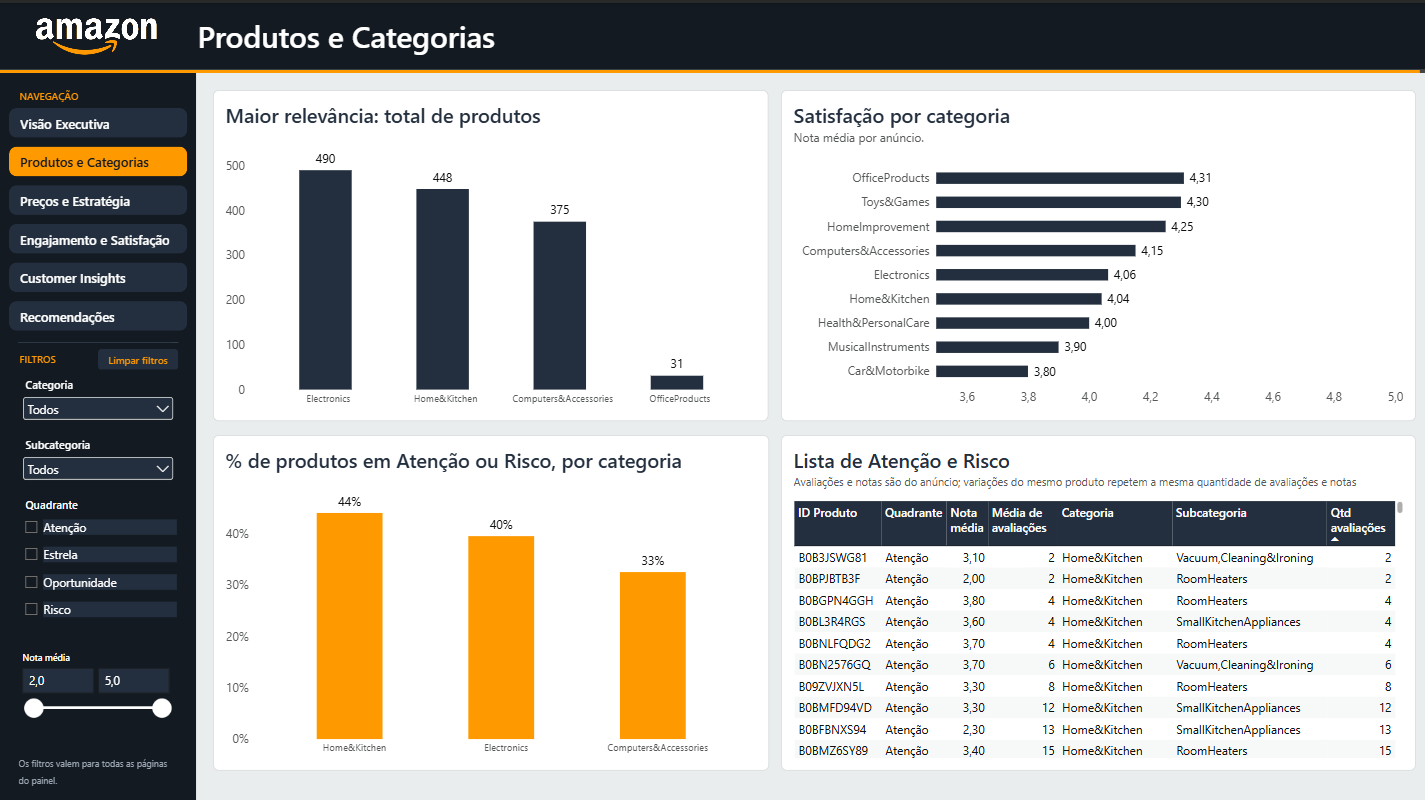

The dashboard page shown, as its layout file describes it:
{"tool":"powerbi","page":{"name":"Produtos e Categorias","canvas":[1920,1080],"ordinal":1},"visuals":[{"type":"textbox","box":[0,0,1920,90],"z":0},{"type":"textbox","box":[0,94,264,986],"z":1000},{"type":"textbox","box":[0,90,1920,4],"z":2000},{"type":"pageNavigator","box":[12,142,240,300],"z":3000},{"type":"textbox","box":[24,112,216,24],"z":4000},{"type":"textbox","box":[24,456,216,1],"z":5000},{"type":"textbox","box":[24,466,216,24],"z":6000},{"type":"clusteredColumnChart","title":"Maior relevância: total de produtos","fields":{"Category":["dProdutos.categoria_principal Hierarquia.categoria_principal","dProdutos.categoria_principal Hierarquia.categoria_nivel2"],"Y":["Medidas.qtd_produtos"]},"box":[287.4,116.7,748.4,446.4],"z":7000},{"type":"clusteredBarChart","title":"Satisfação por categoria","fields":{"Category":["dProdutos.categoria_principal Hierarquia.categoria_principal","dProdutos.categoria_principal Hierarquia.categoria_nivel2"],"Y":["Medidas.Nota média"]},"box":[1051.9,116.7,855,446.4],"z":8000},{"type":"clusteredColumnChart","title":"% de produtos em Atenção ou Risco, por categoria","fields":{"Category":["dProdutos.categoria_principal Hierarquia.categoria_principal","dProdutos.categoria_principal Hierarquia.categoria_nivel2"],"Y":["Medidas.perc_do_portifolio"]},"box":[286.8,581.7,748.7,452.5],"z":9000},{"type":"tableEx","title":"Lista de Atenção e Risco","fields":{"Values":["dProdutos.product_id","dProdutos.quadrante","Medidas.media_rating","Medidas.media_rating_count","dProdutos.categoria_principal","dProdutos.categoria_nivel3","Medidas.Total de avaliações"]},"box":[1051.7,581.7,855.1,452.5],"z":10000},{"type":"textbox","box":[23.3,1009.6,217.4,51.1],"z":11000},{"type":"image","box":[20.4,0,218.8,90.5],"z":12000},{"type":"slicer","fields":{"Values":["dProdutos.categoria_nivel2"]},"box":[16,576,232,66],"z":13000},{"type":"slicer","fields":{"Values":["dProdutos.categoria_principal"]},"box":[16,496,232,66],"z":14000},{"type":"slicer","fields":{"Values":["dProdutos.rating"]},"box":[11.7,865.2,232,110],"z":15000},{"type":"slicer","fields":{"Values":["dProdutos.quadrante"]},"box":[16,656.5,232,188.2],"z":16000},{"type":"actionButton","box":[132,466,108,28],"z":22000}]}

Visuals, with their boxes on the page's 1920x1080 design canvas (x1, y1, x2, y2). These are canvas units, not pixel positions in the 1425x800 screenshot, which may show the page scaled, cropped or inside an application window:
textbox: 0, 0, 1920, 90
textbox: 0, 94, 264, 1080
textbox: 0, 90, 1920, 94
pageNavigator: 12, 142, 252, 442
textbox: 24, 112, 240, 136
textbox: 24, 456, 240, 457
textbox: 24, 466, 240, 490
"Maior relevância: total de produtos" clusteredColumnChart: 287, 117, 1036, 563
"Satisfação por categoria" clusteredBarChart: 1052, 117, 1907, 563
"% de produtos em Atenção ou Risco, por categoria" clusteredColumnChart: 287, 582, 1036, 1034
"Lista de Atenção e Risco" tableEx: 1052, 582, 1907, 1034
textbox: 23, 1010, 241, 1061
image: 20, 0, 239, 90
slicer - dProdutos.categoria_nivel2: 16, 576, 248, 642
slicer - dProdutos.categoria_principal: 16, 496, 248, 562
slicer - dProdutos.rating: 12, 865, 244, 975
slicer - dProdutos.quadrante: 16, 656, 248, 845
actionButton: 132, 466, 240, 494
